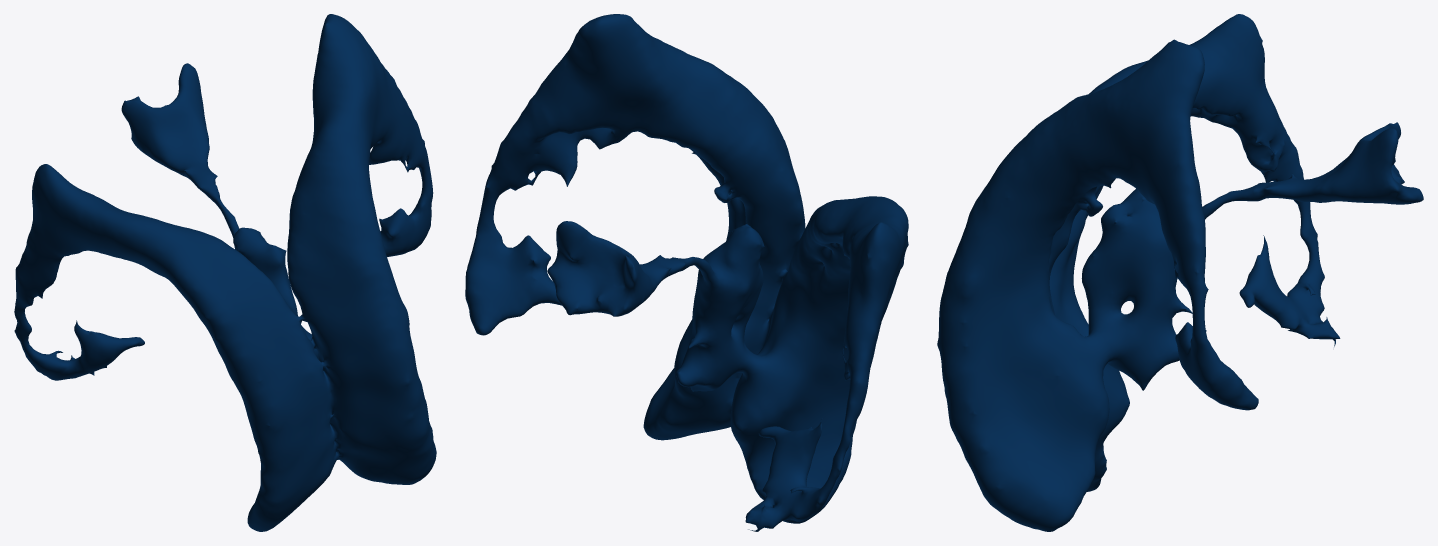
Rendered from Ventricle.obj.
The picture shows the model from 3 angles, left to right: view 1: azimuth 30°, elevation 25°; view 2: azimuth 150°, elevation 25°; view 3: azimuth 270°, elevation 25°; orthographic projection. The views are drawn at different scales.
Visible parts, largest first — view 1: grp1; view 2: grp1; view 3: grp1.
Boxes of the visible parts, x1=… form: grp1: x1=14, y1=14, x2=436, y2=531; grp1: x1=465, y1=14, x2=908, y2=531; grp1: x1=937, y1=14, x2=1423, y2=531.
Size of the model in its own units: 79.43 by 89.36 by 76.89.
